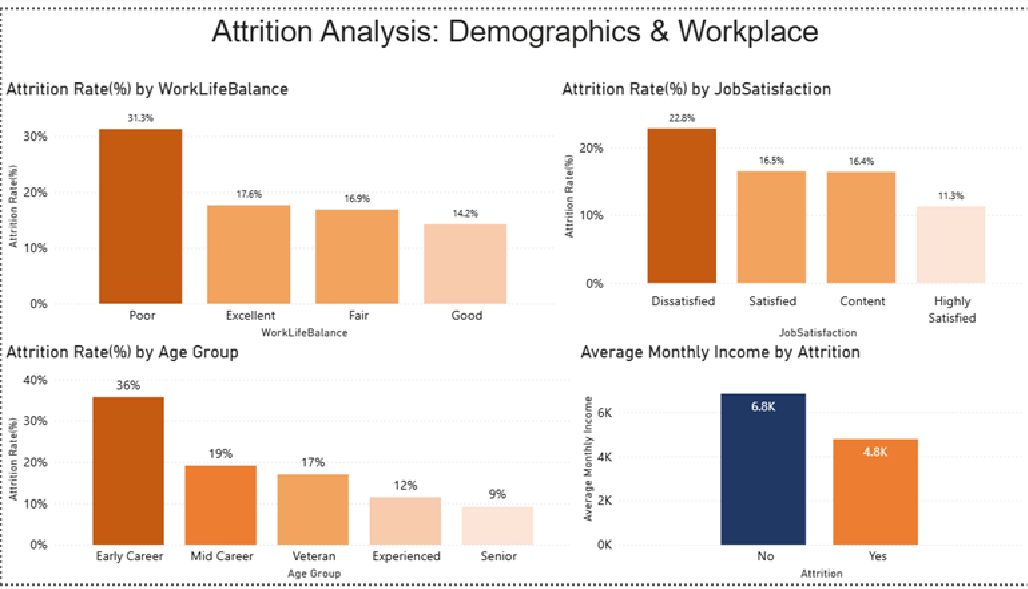

Layout of this report page (visuals, bound fields, positions):
{"tool":"powerbi","page":{"name":"Attrition Analysis","canvas":[1280,720],"ordinal":1},"visuals":[{"type":"clusteredColumnChart","title":"Attrition Rate(%) by Age Group","fields":{"Category":["HR_cleaned.Age_Group"],"Y":["HR_cleaned.Attrition Rate(%)"]},"box":[0,417.3,716.9,303.3],"z":0},{"type":"clusteredColumnChart","fields":{"Category":["HR_cleaned.Attrition"],"Y":["HR_cleaned.Average Monthly Income"]},"box":[716.9,417.3,562.5,303.3],"z":1000},{"type":"textbox","box":[0,0,1280.8,86.5],"z":2000},{"type":"clusteredColumnChart","fields":{"Category":["HR_cleaned.JobSatisfaction"],"Y":["HR_cleaned.Attrition Rate(%)"]},"box":[693,86.4,586.4,330.9],"z":3000},{"type":"clusteredColumnChart","fields":{"Category":["HR_cleaned.WorkLifeBalance"],"Y":["HR_cleaned.Attrition Rate(%)"]},"box":[0,86.4,693,330.9],"z":4000}]}

Visuals, with their boxes in screenshot pixels (x1, y1, x2, y2), scaled from the page's 1280x720 canvas onto the 1028x589 screenshot:
"Attrition Rate(%) by Age Group" clusteredColumnChart: pyautogui.locateOnScreen(0, 341, 576, 588)
clusteredColumnChart - HR_cleaned.Attrition x HR_cleaned.Average Monthly Income: pyautogui.locateOnScreen(576, 341, 1027, 588)
textbox: pyautogui.locateOnScreen(0, 0, 1027, 71)
clusteredColumnChart - HR_cleaned.JobSatisfaction x HR_cleaned.Attrition Rate(%): pyautogui.locateOnScreen(557, 71, 1027, 341)
clusteredColumnChart - HR_cleaned.WorkLifeBalance x HR_cleaned.Attrition Rate(%): pyautogui.locateOnScreen(0, 71, 557, 341)
